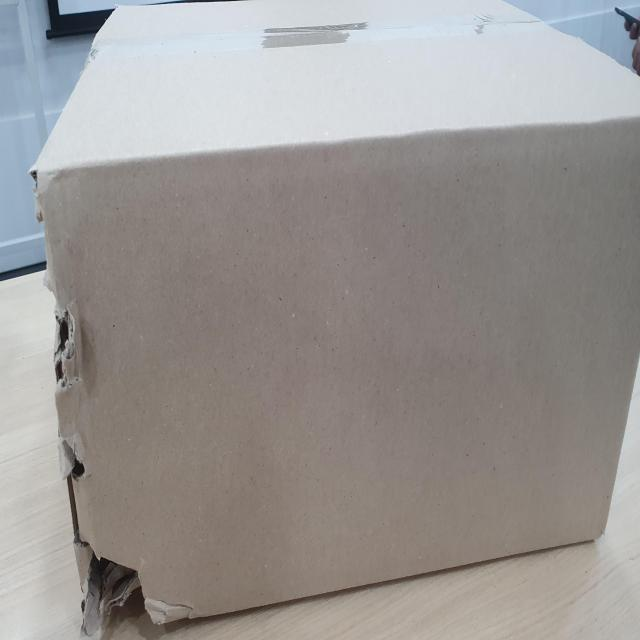damaged: (70, 508, 183, 634), (45, 309, 82, 393), (62, 431, 90, 486)
